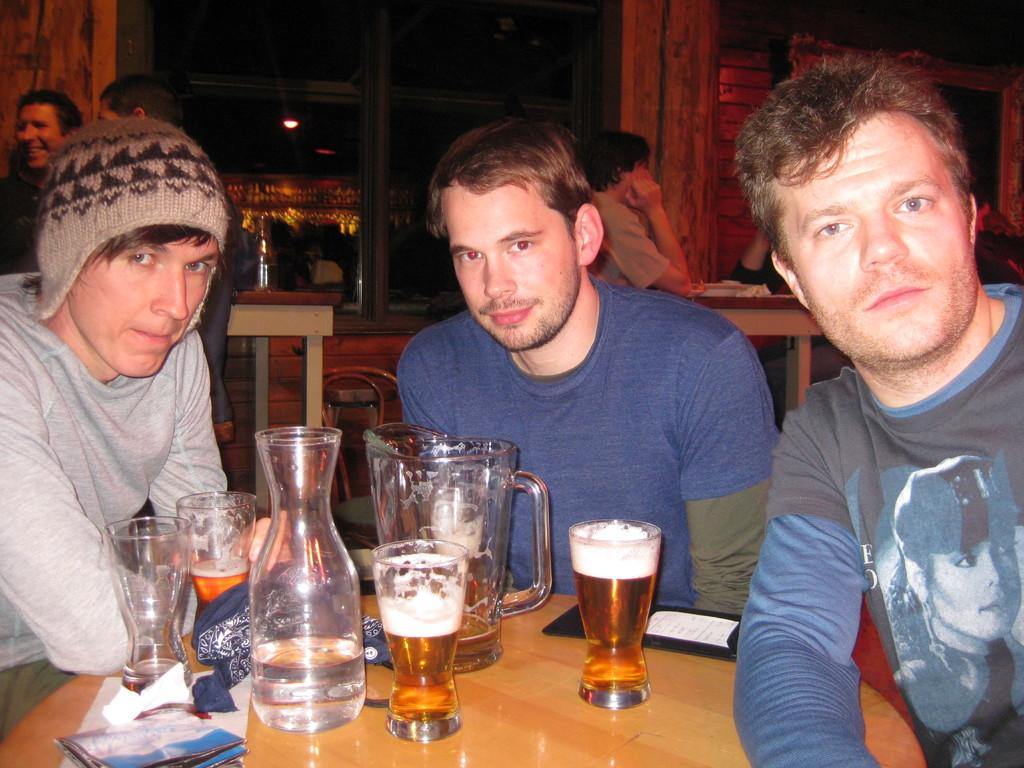Beer: (357, 524, 475, 747), (560, 509, 667, 717), (88, 510, 199, 697), (169, 485, 273, 682)
